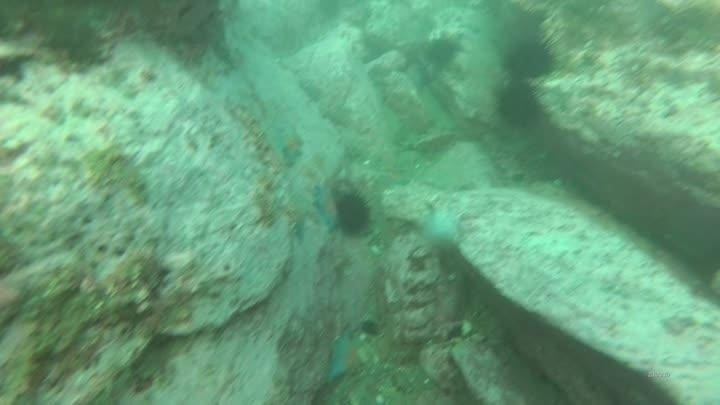echinus: (501, 35, 559, 82), (494, 80, 543, 131), (332, 189, 374, 239), (423, 34, 462, 71)
starfish: (412, 202, 466, 255), (322, 329, 368, 384), (310, 181, 343, 235), (271, 123, 307, 167)
